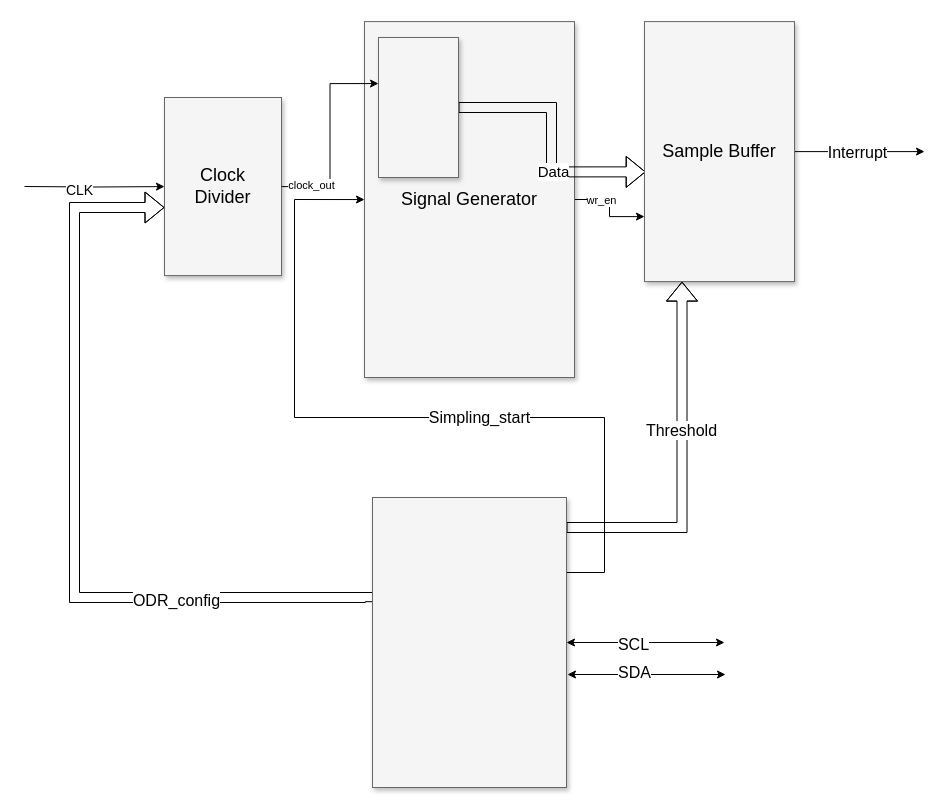
The diagram is 950 pixels wide and 812 high, and some of its shapes have lost their labels. The shapes that lost their labels are listed below. From the top down, each one's centre as x and y in pixels, then its label:
(419,108): Counter
(470,643): I2C_Slave
